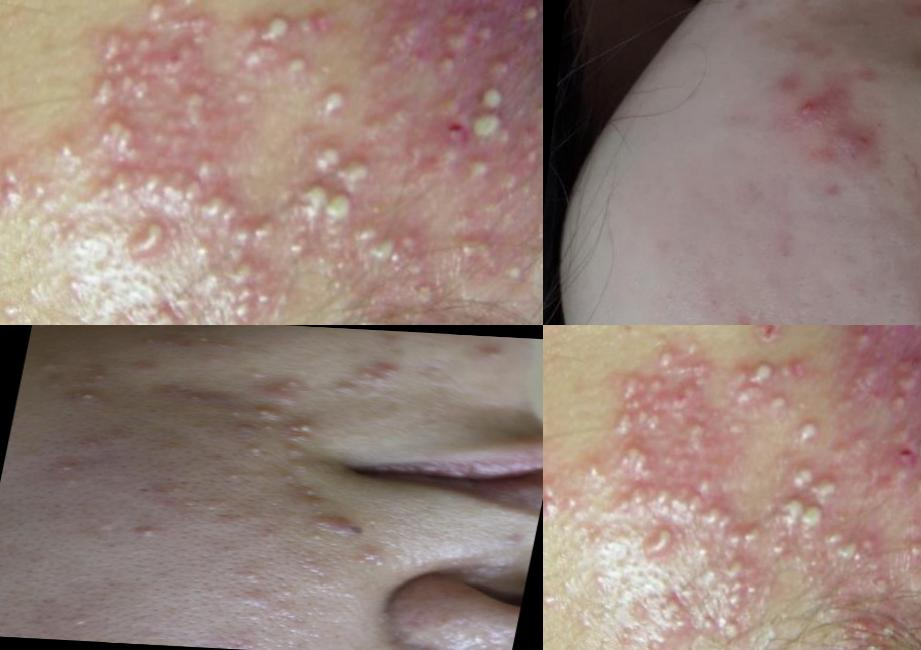papular: (816, 112, 883, 169), (788, 80, 847, 137), (457, 336, 529, 374), (65, 361, 126, 390), (57, 388, 110, 412), (125, 334, 189, 353), (894, 1, 921, 32)
purulent: (88, 19, 204, 162), (440, 146, 544, 273), (284, 134, 389, 229), (225, 7, 322, 91), (340, 227, 443, 299), (384, 1, 484, 73), (192, 253, 285, 326), (75, 288, 210, 326), (1, 149, 76, 217), (194, 195, 276, 254), (608, 360, 684, 414), (104, 164, 188, 211), (456, 96, 519, 153), (124, 209, 192, 254), (314, 79, 369, 126), (502, 1, 544, 61), (784, 411, 834, 458), (819, 526, 869, 573), (469, 75, 522, 119), (697, 606, 750, 650), (847, 610, 905, 650), (651, 586, 696, 635), (774, 347, 824, 391), (128, 1, 182, 38), (723, 378, 767, 420), (573, 451, 613, 497), (677, 416, 720, 457), (643, 339, 684, 382), (887, 524, 921, 575), (715, 580, 756, 621), (813, 466, 853, 507), (717, 549, 761, 586), (759, 387, 800, 424), (47, 450, 102, 477), (747, 356, 784, 394), (785, 462, 823, 496), (544, 478, 571, 525), (644, 526, 682, 559), (130, 519, 176, 546), (688, 468, 725, 501), (269, 466, 320, 486), (214, 462, 252, 486), (231, 441, 272, 460), (904, 469, 921, 509), (910, 432, 921, 470)
sebo-crystan-conglo: (608, 479, 714, 527), (698, 501, 764, 555), (602, 403, 675, 449), (773, 491, 838, 533), (607, 440, 663, 484), (253, 372, 324, 406), (354, 358, 410, 393), (272, 419, 333, 448), (879, 387, 921, 426), (303, 512, 357, 541), (240, 404, 287, 424), (862, 326, 921, 341)
whitehead: (37, 593, 119, 635), (338, 537, 400, 569), (282, 551, 340, 577), (219, 562, 273, 584)
